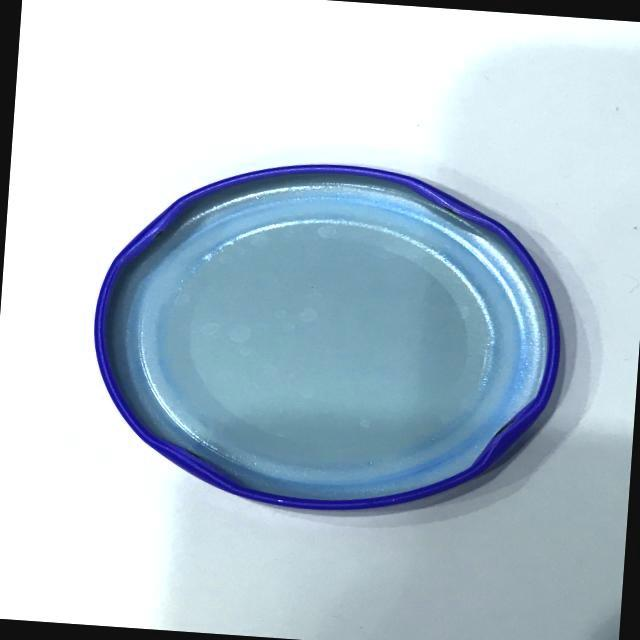metal: (54, 132, 592, 554)
